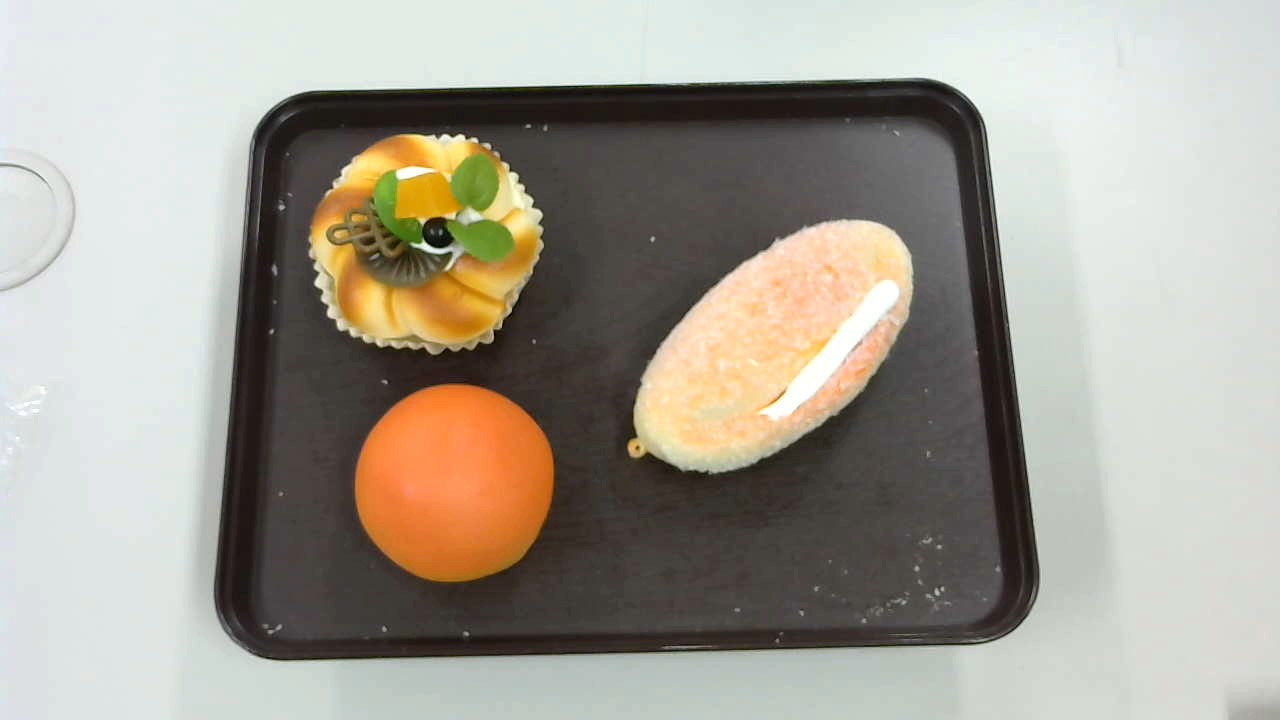bun: (355, 383, 554, 583)
coconut: (627, 218, 915, 474)
fruit tart: (307, 132, 545, 357)
